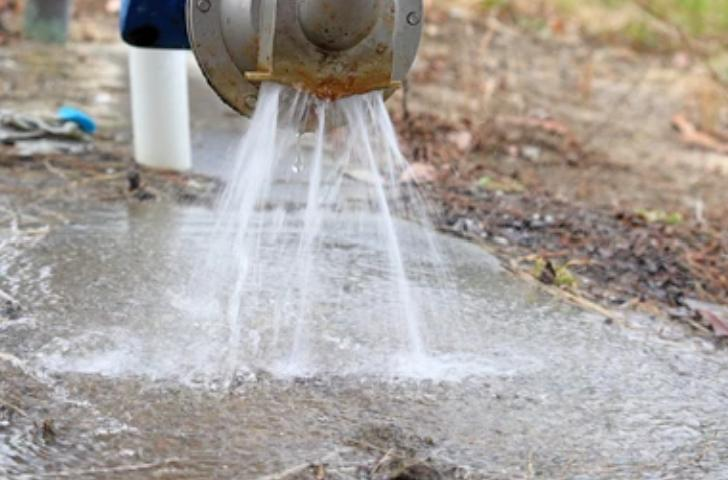pipe burst: (177, 78, 465, 373)
water accumulation: (0, 200, 728, 480)
